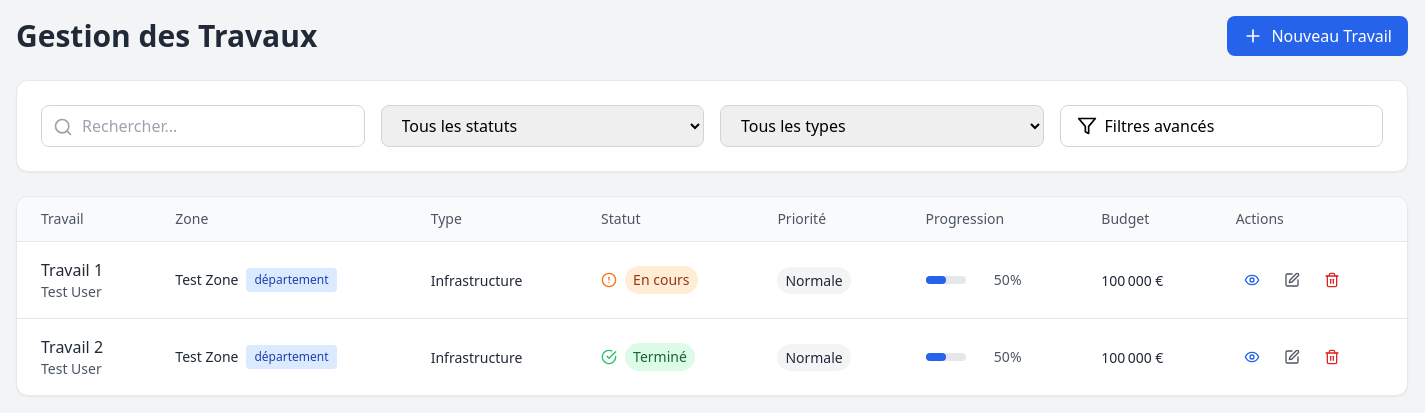
TravauxList › should handle status filter
Expected: the heading "Gestion des Travaux" is shown, top-left (16, 18), bottom-right (317, 54)
Expected: the heading "Travail 1" is shown, top-left (41, 259), bottom-right (103, 281)
Select "En cours" in the 1st dropdown showing "Tous les statuts" at {"x": 542, "y": 126}, box top-left (380, 105), bottom-right (704, 147)
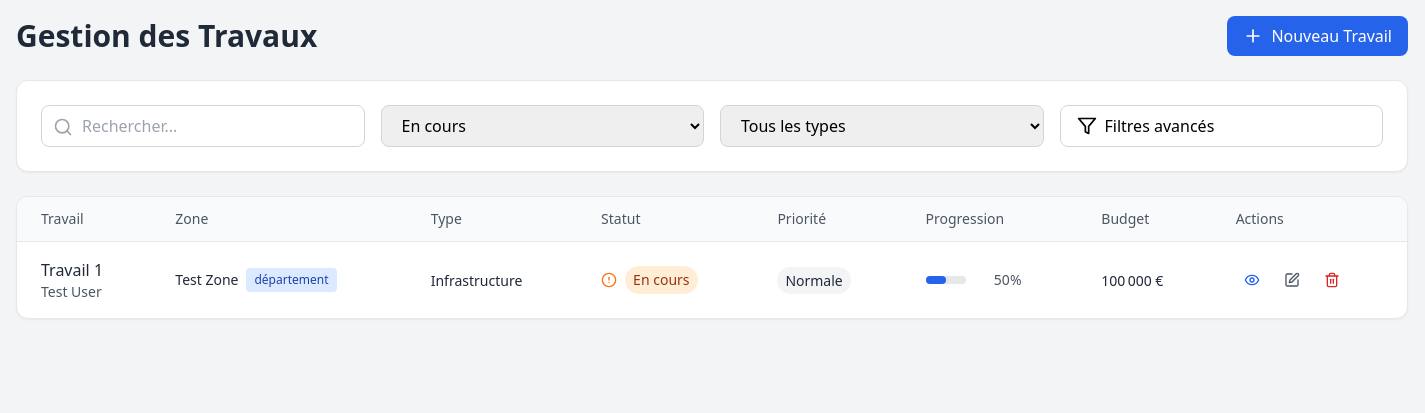
Expected: the heading "Travail 1" is shown, top-left (41, 259), bottom-right (103, 281)
Result: the heading "Travail 2" is gone
